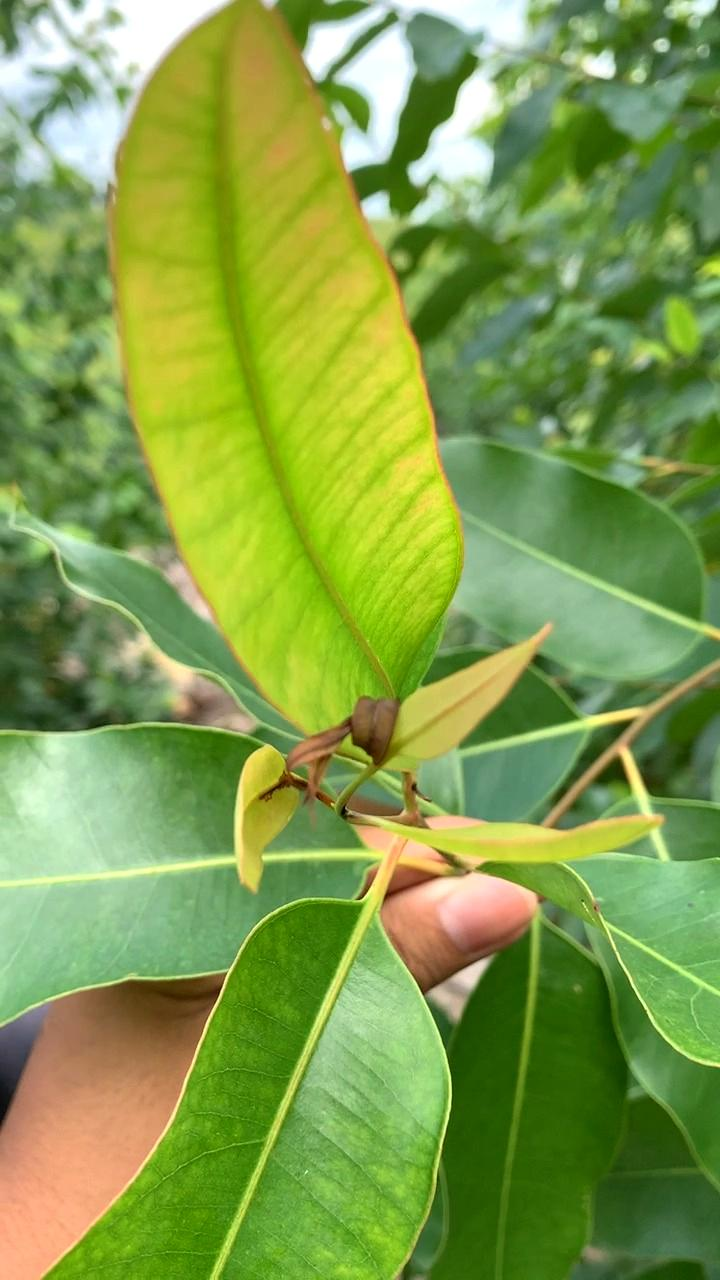Helopeltis-Withered Sprout: (287, 680, 418, 805)
